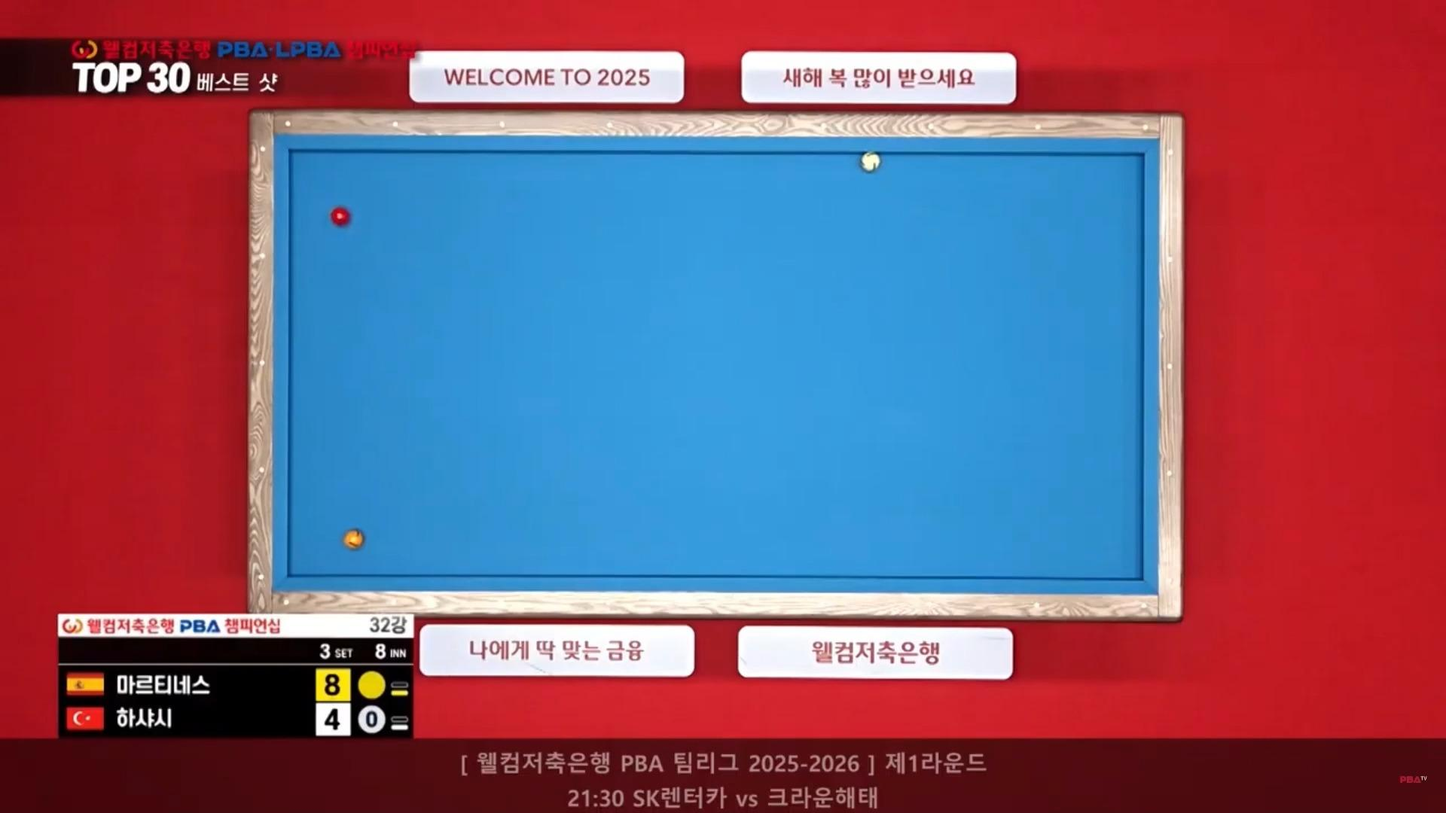Red: (329, 209, 352, 227)
White: (860, 154, 883, 173)
Yellow: (341, 531, 363, 549)
